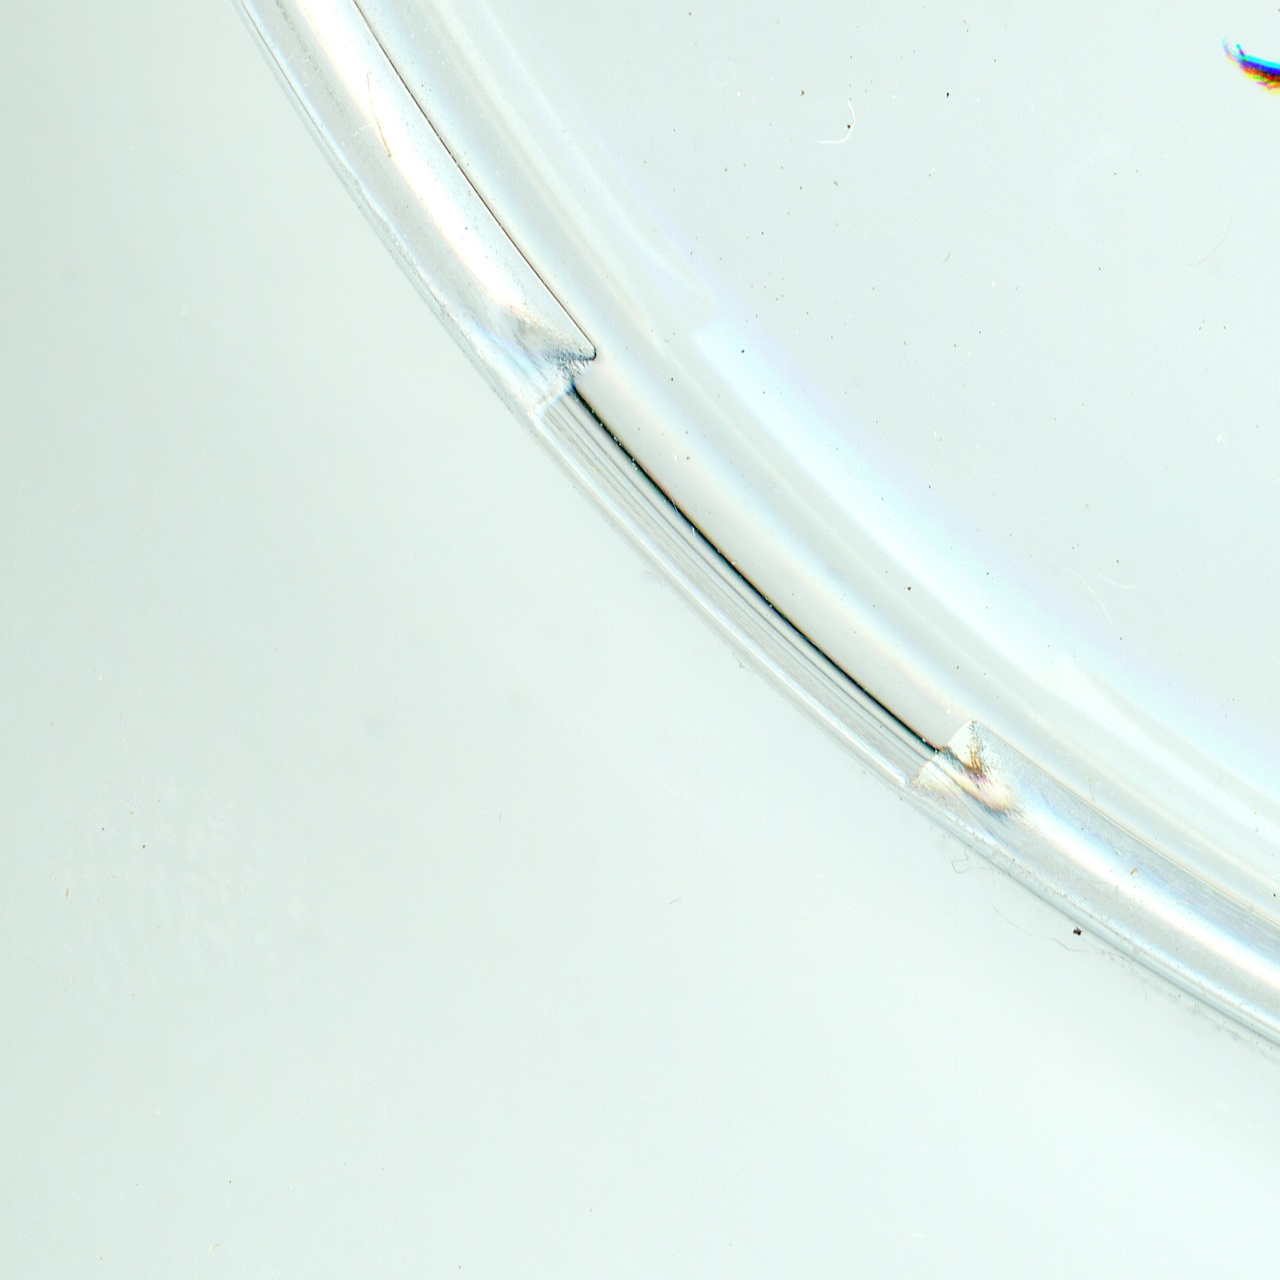arthropod: (1216, 29, 1280, 113)
